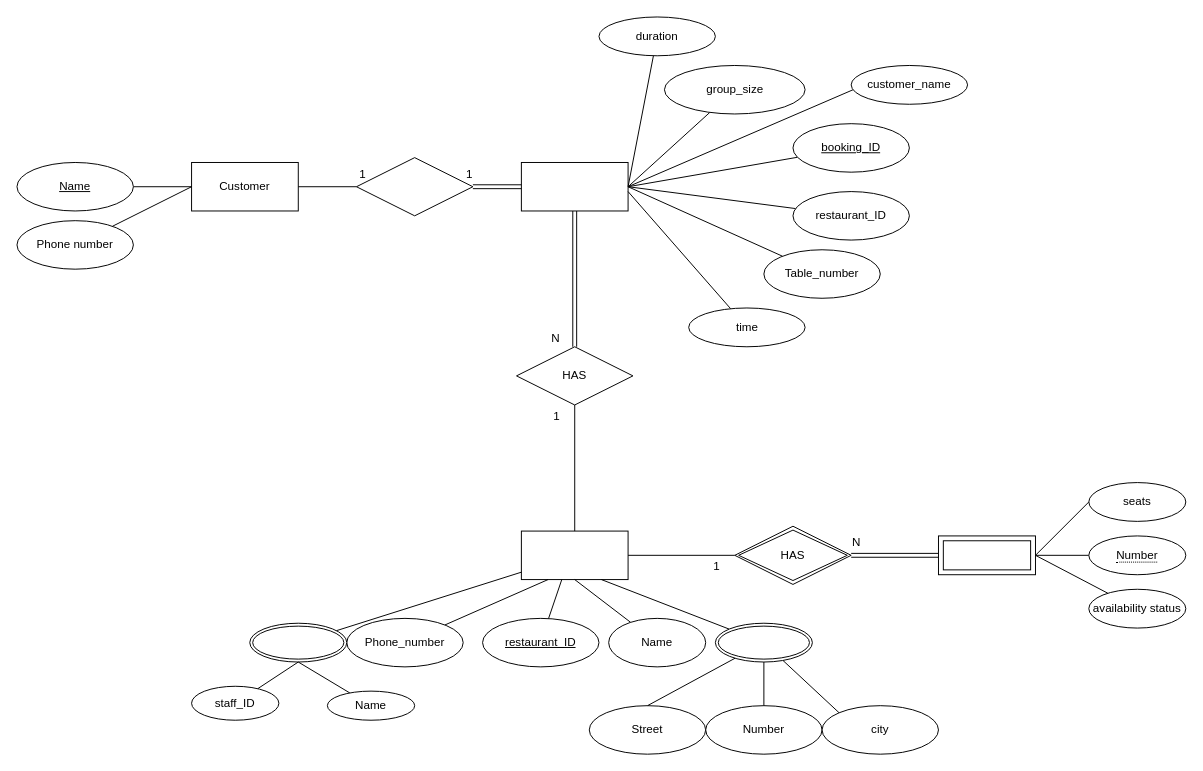
This 1203x771 diagram has some shape labels left out. The centre of each missing label's shape, as x and y in pixels:
Location: the point at 763,642
MAKES: the point at 414,186
Reservation: the point at 574,186
Restaurant: the point at 574,555
Staff_member: the point at 298,642
Table: the point at 986,555
